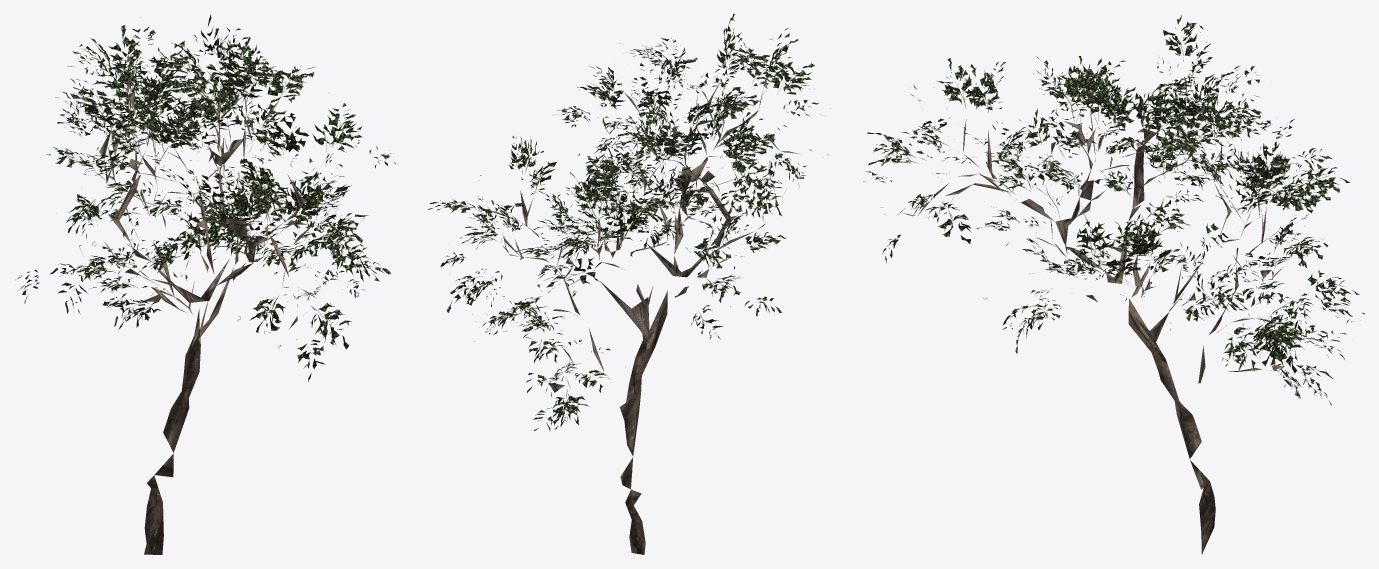
Rendered from tree_small_02.glb.
3 renders of one model, left to right at view 1: azimuth 30°, elevation 25°; view 2: azimuth 150°, elevation 25°; view 3: azimuth 270°, elevation 25°, orthographic. The views are drawn at different scales.
Visible parts, largest first — view 1: tree_small_02_LOD0; view 2: tree_small_02_LOD0; view 3: tree_small_02_LOD0.
Part boxes in pixels (left/top/right/bottom): tree_small_02_LOD0: left=17, top=14, right=397, bottom=554; tree_small_02_LOD0: left=428, top=14, right=830, bottom=554; tree_small_02_LOD0: left=863, top=15, right=1364, bottom=553.
Bounding box in the file's own units: 2.88 × 4.51 × 4.12.
3 materials, 3 textured.
